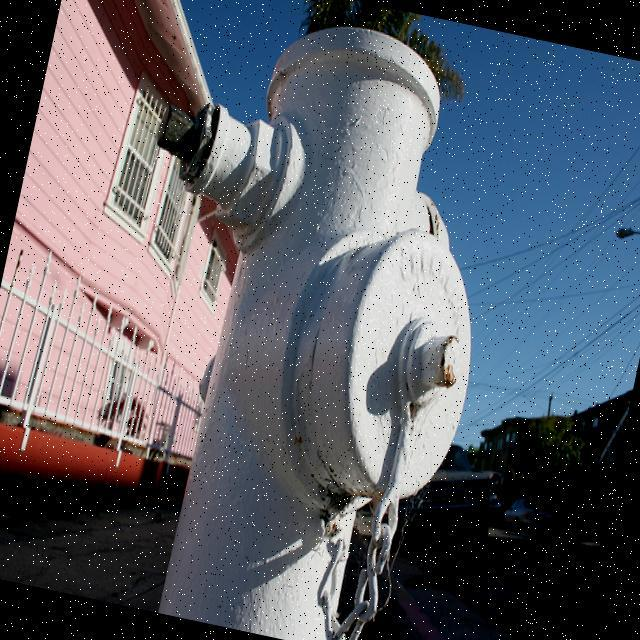fire_hydrant: (60, 0, 536, 640)
